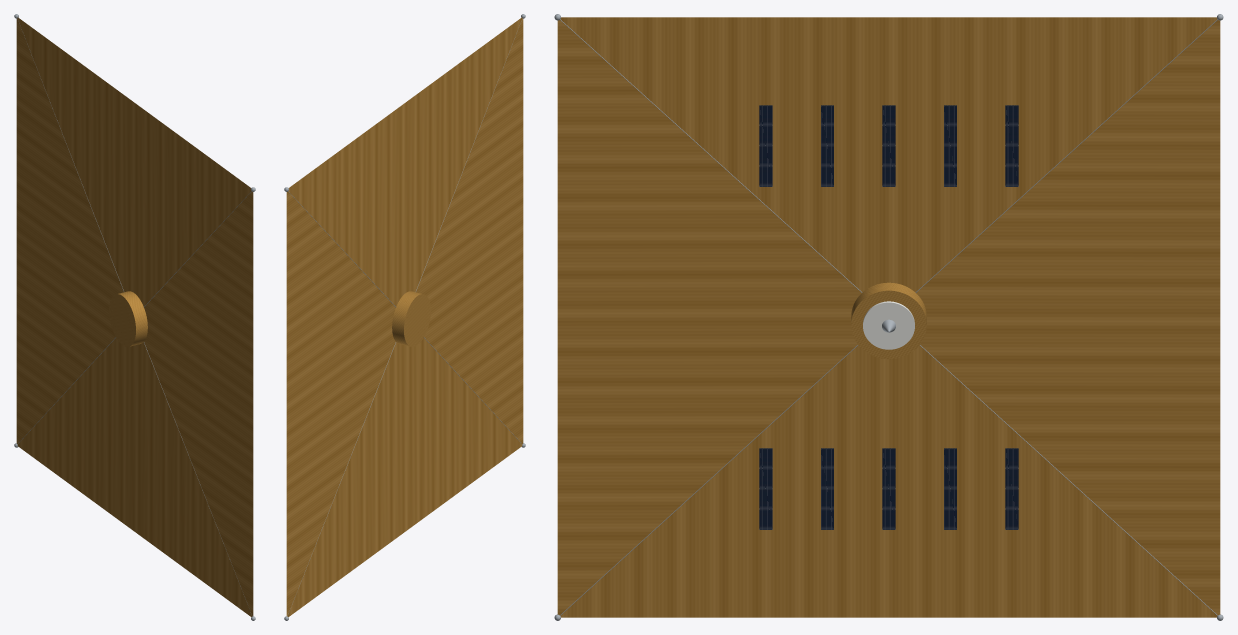
Rendered from ikaros-source.glb.
3 renders of one model, left to right at view 1: azimuth 30°, elevation 25°; view 2: azimuth 150°, elevation 25°; view 3: azimuth 270°, elevation 25°, orthographic. The views are drawn at different scales.
Visible parts, largest first — view 1: Reflective sail quadrant 2, Reflective sail quadrant 1, Reflective sail quadrant 3, Reflective sail quadrant 0, Central spacecraft body; view 2: Reflective sail quadrant 0, Reflective sail quadrant 1, Reflective sail quadrant 3, Reflective sail quadrant 2, Central spacecraft body; view 3: Reflective sail quadrant 0, Reflective sail quadrant 2, Reflective sail quadrant 1, Reflective sail quadrant 3, Thin-film solar cell strip (×10), Central spacecraft body, Communications deck.
Part boxes in pixels (<box>): Reflective sail quadrant 2: <box>144,191,253,616</box>; Reflective sail quadrant 1: <box>17,17,251,306</box>; Reflective sail quadrant 3: <box>17,338,252,616</box>; Reflective sail quadrant 0: <box>16,18,123,443</box>; Central spacecraft body: <box>109,291,147,346</box>; Reflective sail quadrant 0: <box>286,191,395,616</box>; Reflective sail quadrant 1: <box>288,17,522,306</box>; Reflective sail quadrant 3: <box>287,338,522,616</box>; Reflective sail quadrant 2: <box>416,18,523,443</box>; Central spacecraft body: <box>392,291,430,346</box>; Reflective sail quadrant 0: <box>916,20,1220,615</box>; Reflective sail quadrant 2: <box>557,20,861,615</box>; Reflective sail quadrant 1: <box>560,17,1217,292</box>; Reflective sail quadrant 3: <box>560,345,1217,617</box>; Thin-film solar cell strip (×10): <box>759,105,1018,529</box>; Central spacecraft body: <box>851,282,926,359</box>; Communications deck: <box>863,301,914,349</box>.
Size of the model in its own units: 1.15 by 14.14 by 14.14.
Materials: 4 (2 with a texture image).
